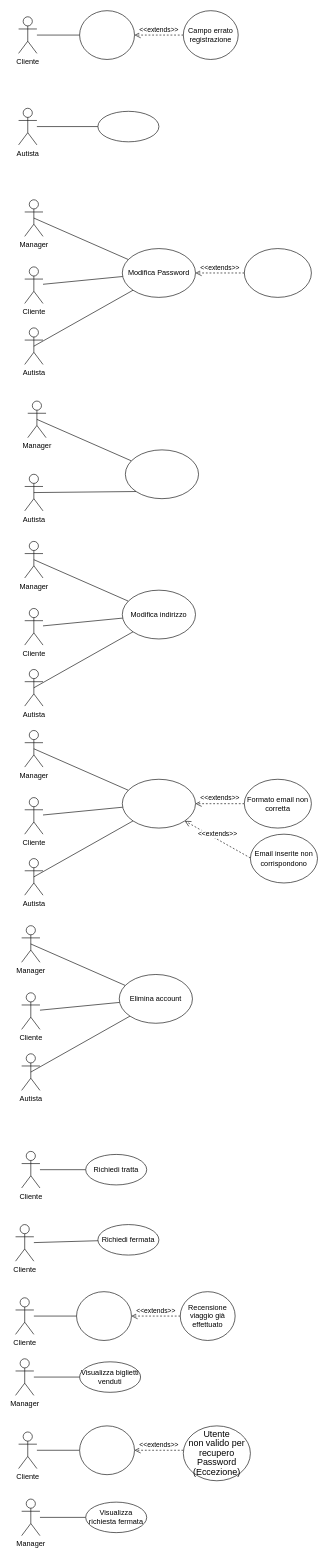
Image size: 328x1559. Some labels were removed from this diagram. Here are the shapes that lost their labels. From the top down, the box of each, then its label:
(79, 10, 135, 59): Registrazione
(97, 111, 159, 142): Visualizza tratta
(244, 248, 311, 297): Modifica Password campo errato
(125, 449, 199, 499): Informazione bus
(122, 779, 196, 828): Modifica email
(76, 1291, 131, 1340): Recensione viaggio
(79, 1425, 135, 1475): Password dimenticata
